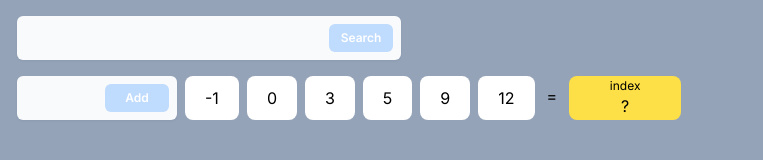
Test: HomePage › Search number › should find the number and show your index when the number is added
Type "10" into the number field with test id "add-input". click: x=97, y=98
box: [17, 76, 177, 120]
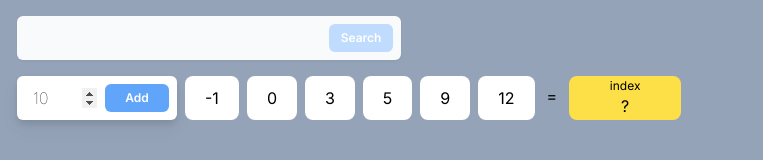
Click the button with test id "add-button". click: x=137, y=98
box: [105, 84, 169, 112]
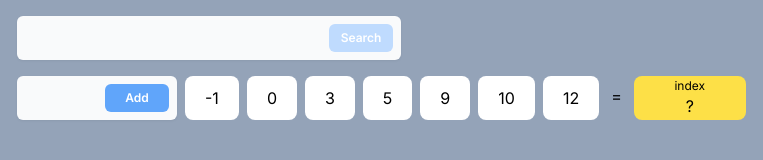
Check: the text with test id "item-5" reads "10", box [498, 88, 515, 108]
Type "10" into the number field with test id "search-input". click: x=209, y=38
box: [17, 16, 401, 60]
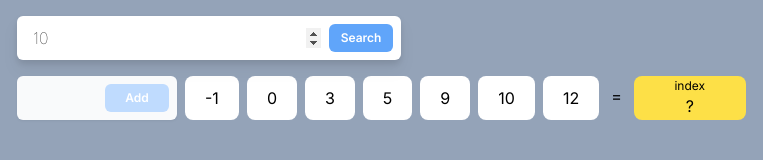
Click the button with test id "search-button". click: x=361, y=38
box: [329, 24, 393, 52]
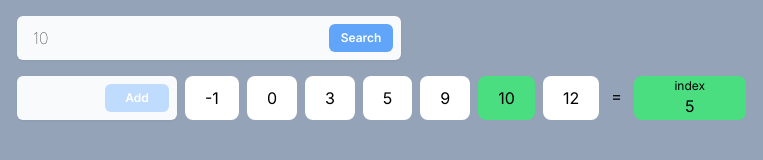
Check: the text with test id "result-value" reads "5", box [685, 96, 695, 116]
